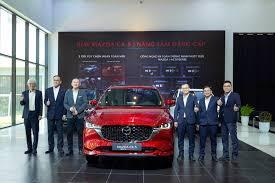mazda: (118, 123, 134, 135)
